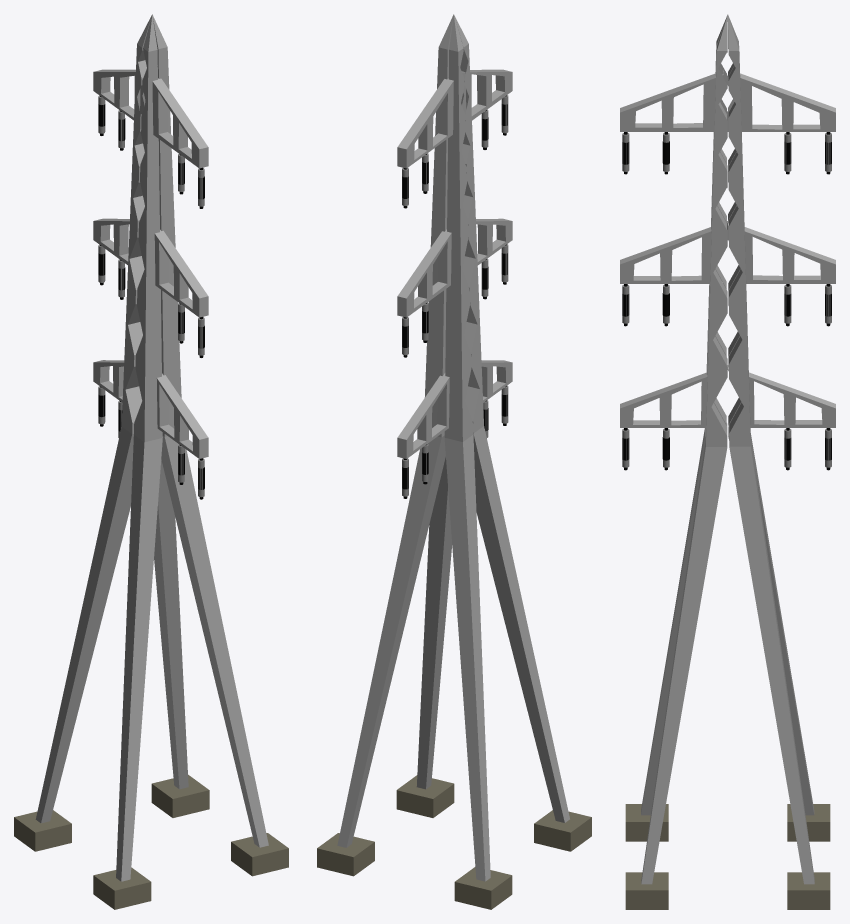
Rendered from Transmission Tower.glb.
The picture shows the model from 3 angles, left to right: view 1: azimuth 30°, elevation 25°; view 2: azimuth 150°, elevation 25°; view 3: azimuth 270°, elevation 25°; orthographic projection.
Parts seen in each view (by area): view 1: Tower, Bases; view 2: Tower, Bases; view 3: Tower, Bases.
Part boxes in pixels (bbox=[...]): Tower: bbox=[35, 14, 268, 881]; Bases: bbox=[14, 774, 288, 909]; Tower: bbox=[337, 14, 569, 881]; Bases: bbox=[317, 775, 591, 909]; Tower: bbox=[620, 14, 835, 884]; Bases: bbox=[625, 804, 830, 909].
Bounding box in the file's own units: 5.79 × 26.6 × 6.1.
